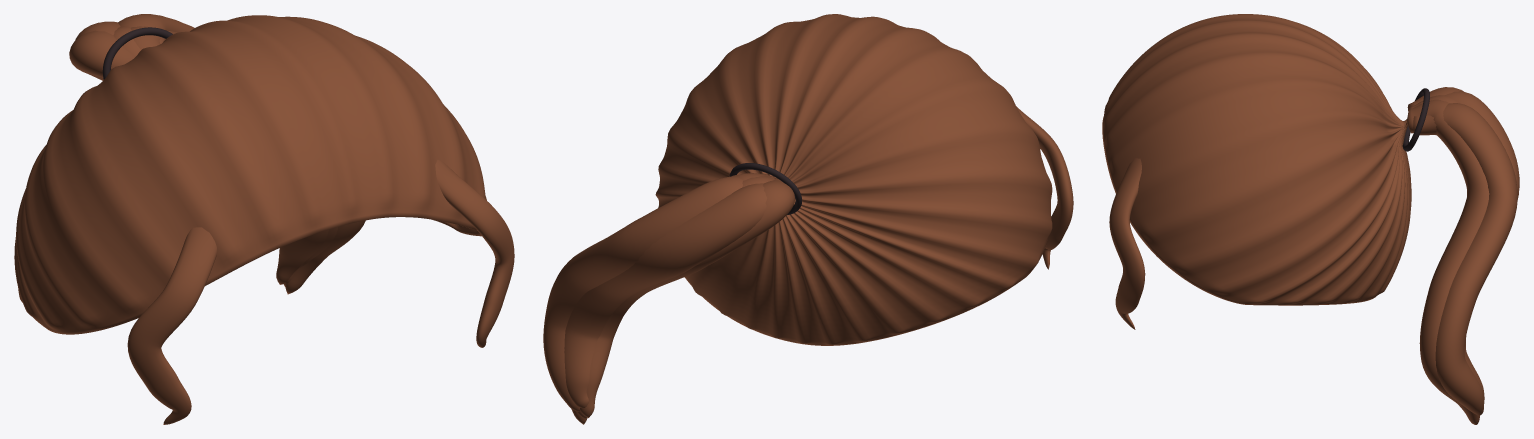
The model's file is Feminine-ponytail-hair.glb.
3 renders of one model, left to right at view 1: azimuth 30°, elevation 25°; view 2: azimuth 150°, elevation 25°; view 3: azimuth 270°, elevation 25°, orthographic. The views are drawn at different scales.
Parts seen in each view (by area): view 1: Hair / Continuous swept pony roots212, Hair / Pony curved front212 -1, Hair / Pony curved front212 1, Hair / Pony S tail212 0, Hair / Pony S tail212 3, Hair / Pony S tail212 4, Hair / Pony tie212 export, Hair / Pony S tail212 2; view 2: Hair / Continuous swept pony roots212, Hair / Pony S tail212 1, Hair / Pony S tail212 4, Hair / Pony S tail212 0, Hair / Pony curved front212 -1, Hair / Pony tie212 export; view 3: Hair / Continuous swept pony roots212, Hair / Pony S tail212 4, Hair / Pony S tail212 3, Hair / Pony curved front212 1, Hair / Pony S tail212 1, Hair / Pony tie212 export.
Part boxes in pixels (left/top/right/bottom): Hair / Continuous swept pony roots212: left=14, top=15, right=486, bottom=334; Hair / Pony curved front212 -1: left=127, top=227, right=217, bottom=424; Hair / Pony curved front212 1: left=435, top=160, right=514, bottom=347; Hair / Pony S tail212 0: left=69, top=30, right=328, bottom=284; Hair / Pony S tail212 3: left=130, top=26, right=365, bottom=294; Hair / Pony S tail212 4: left=118, top=14, right=194, bottom=43; Hair / Pony tie212 export: left=102, top=27, right=172, bottom=79; Hair / Pony S tail212 2: left=113, top=26, right=337, bottom=286; Hair / Continuous swept pony roots212: left=655, top=14, right=1052, bottom=345; Hair / Pony S tail212 1: left=564, top=183, right=767, bottom=408; Hair / Pony S tail212 4: left=543, top=176, right=742, bottom=411; Hair / Pony S tail212 0: left=580, top=178, right=794, bottom=417; Hair / Pony curved front212 -1: left=1016, top=106, right=1073, bottom=269; Hair / Pony tie212 export: left=729, top=163, right=801, bottom=214; Hair / Continuous swept pony roots212: left=1102, top=14, right=1411, bottom=305; Hair / Pony S tail212 4: left=1413, top=103, right=1517, bottom=415; Hair / Pony S tail212 3: left=1407, top=99, right=1489, bottom=424; Hair / Pony curved front212 1: left=1109, top=158, right=1145, bottom=329; Hair / Pony S tail212 1: left=1445, top=91, right=1519, bottom=403; Hair / Pony tie212 export: left=1402, top=88, right=1429, bottom=151.
Bounding box in the file's own units: 1.05 × 0.9045 × 1.06.
